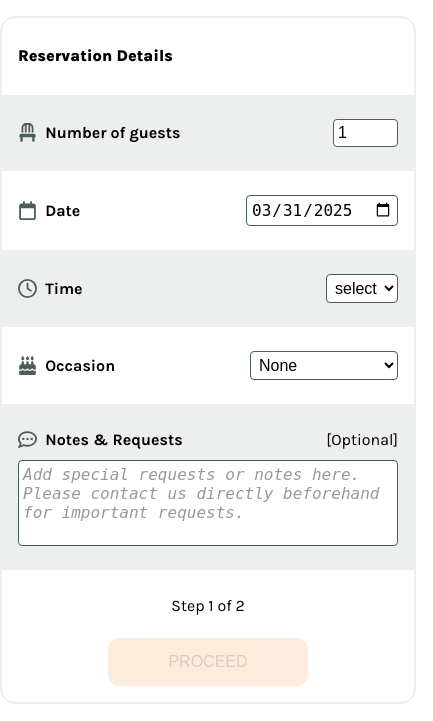
Test: First name input has correct attributes
Replace the text in the number field labelled "Number of guests" with "2" at [366, 133], box [333,119,398,147]
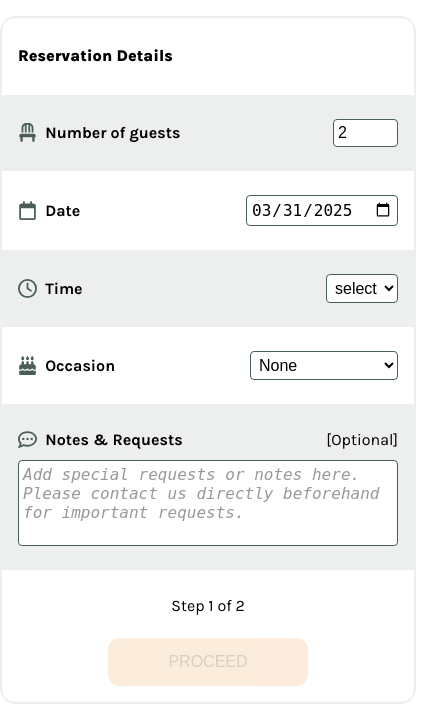
Type "2025-04-01" into the date field labelled "Date" at [322, 210], box [246,195,398,226]
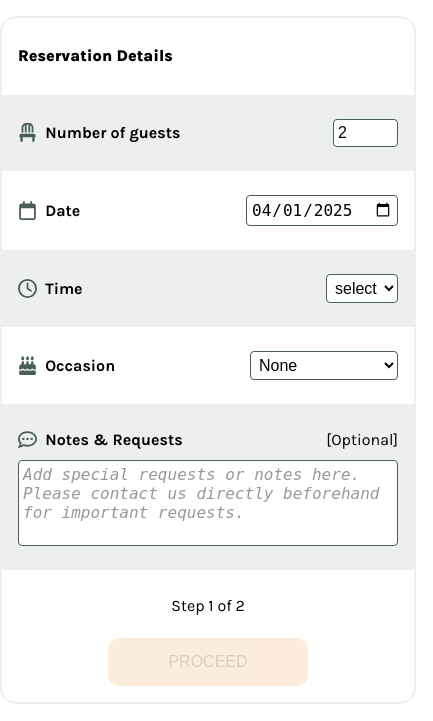
Select "18:00" in the dropdown labelled "Time" at [362, 288], box [326,274,398,303]
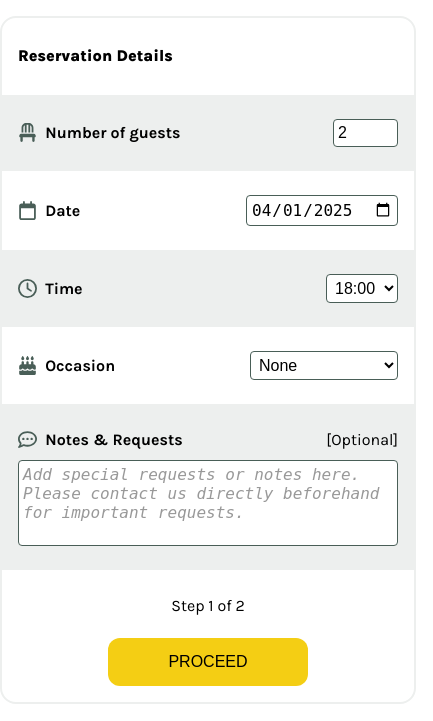
Select "Birthday" in the dropdown labelled "Occasion" at [324, 365], box [250,351,398,380]
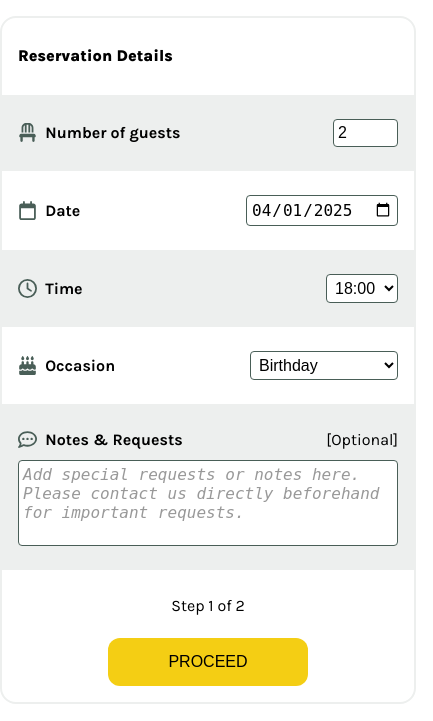
Now the button "Proceed" is enabled
Click the button "Proceed" at [208, 662], box [108,638,308,686]
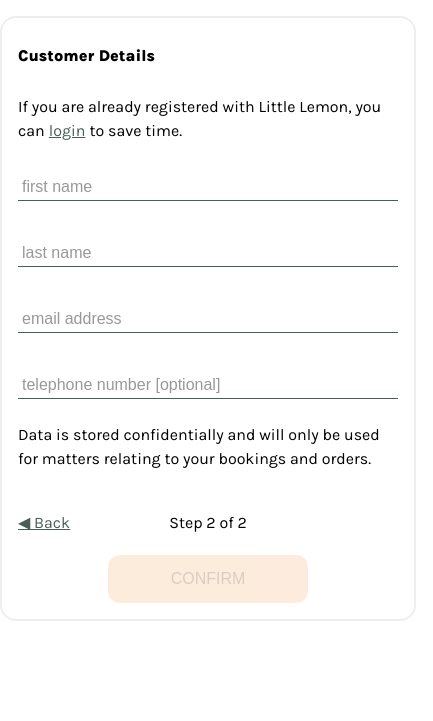
Now the field labelled "first name" is shown, box [18,174,398,201]
